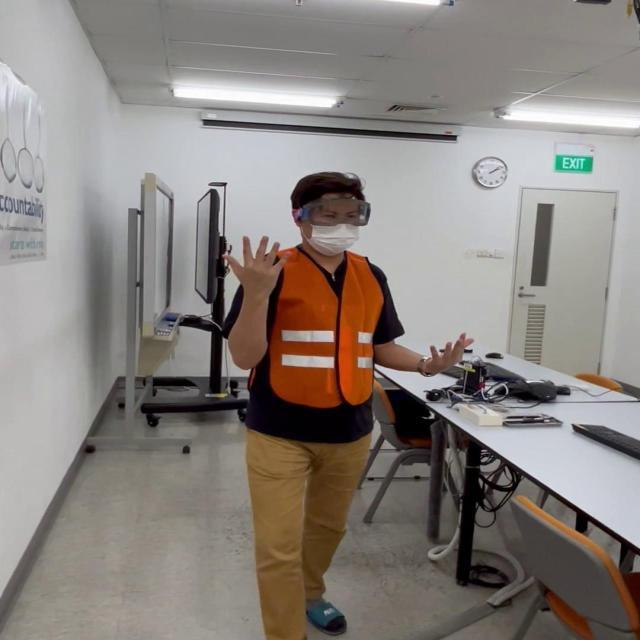bare_hand: (219, 230, 294, 290), (423, 328, 475, 377)
